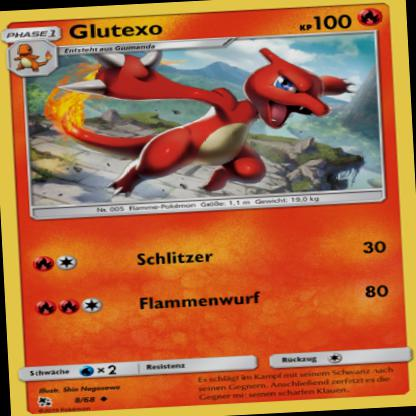Charmeleon: (62, 42, 365, 200)
